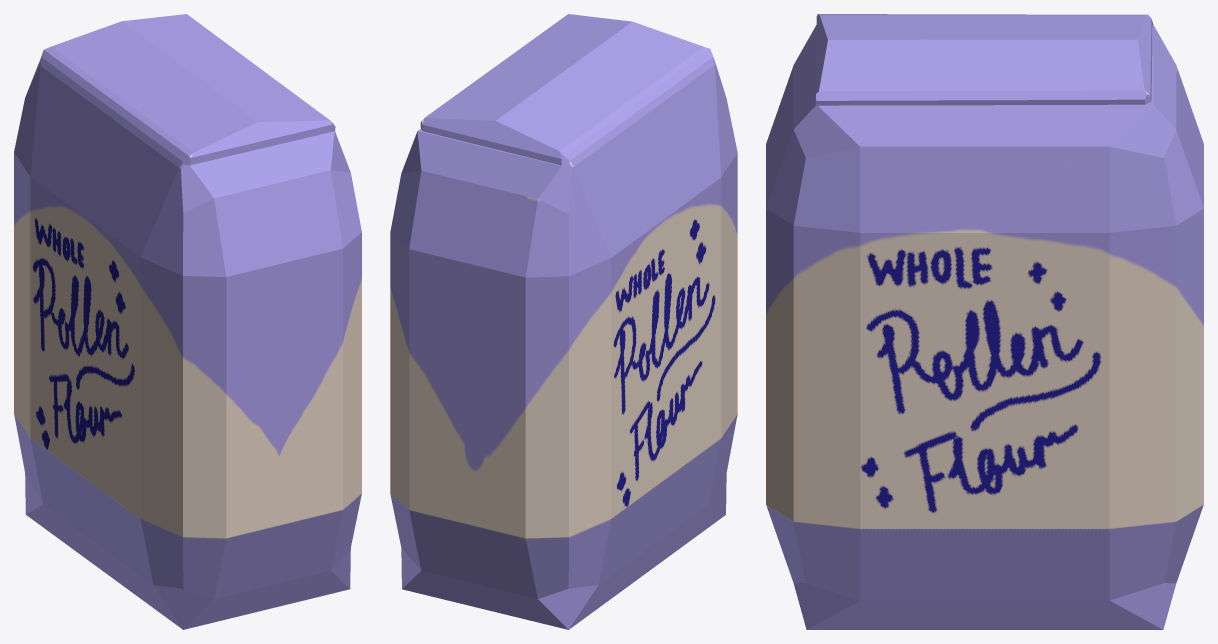
The model's file is Pollen Flour.fbx.
3 renders of one model, left to right at view 1: azimuth 30°, elevation 25°; view 2: azimuth 150°, elevation 25°; view 3: azimuth 270°, elevation 25°, orthographic. The views are drawn at different scales.
Parts seen in each view (by area): view 1: Pollen Flour; view 2: Pollen Flour; view 3: Pollen Flour.
Part boxes in pixels (x1,y1,x2,y2): Pollen Flour: [14, 14, 361, 629]; Pollen Flour: [390, 14, 737, 629]; Pollen Flour: [766, 14, 1203, 629].
Bounding box in the file's own units: 279 × 627 × 457.
